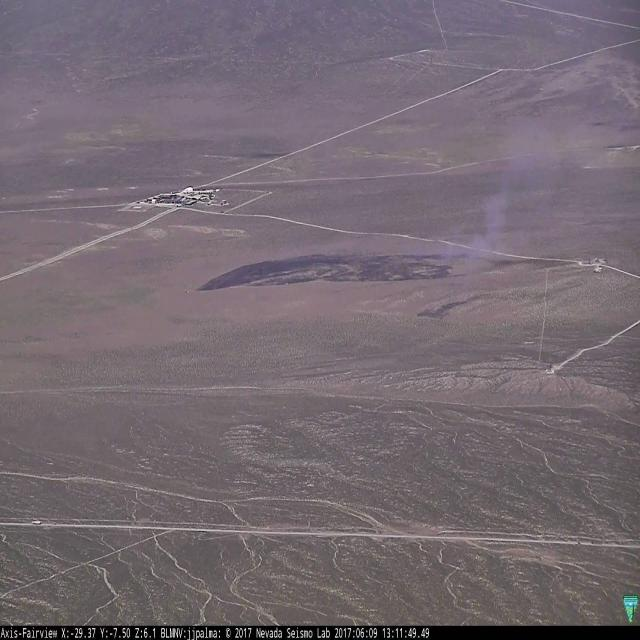smoke: (438, 110, 557, 270)
